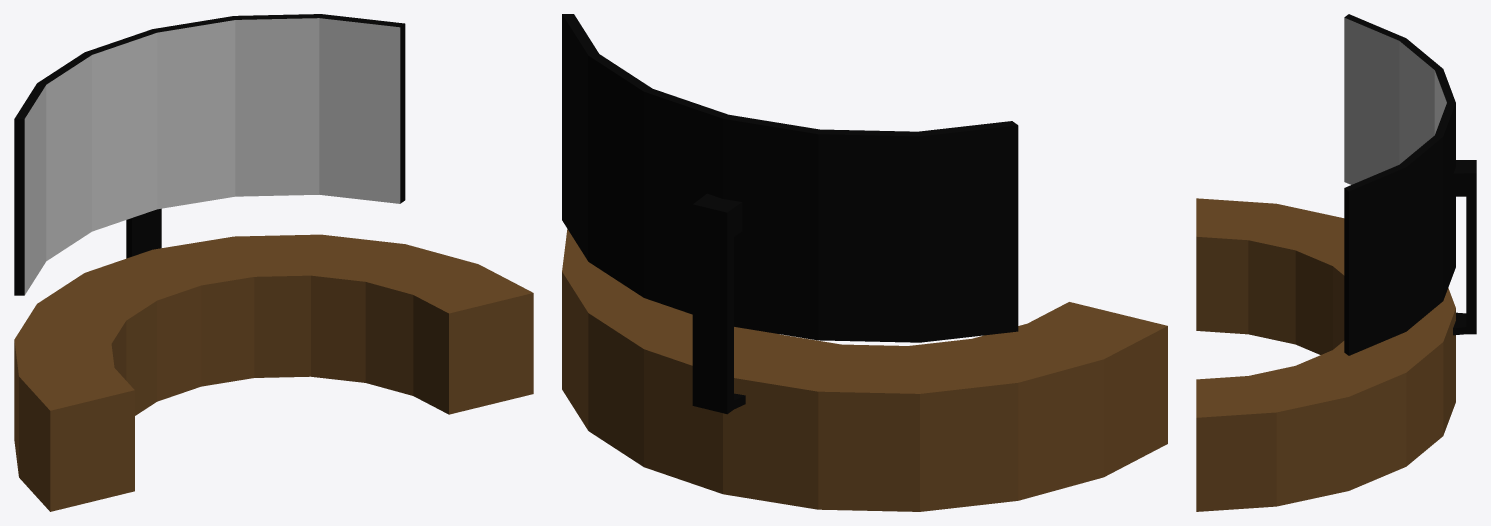
File: BigDesk.fbx
3 renders of one model, left to right at view 1: azimuth 30°, elevation 25°; view 2: azimuth 150°, elevation 25°; view 3: azimuth 270°, elevation 25°, orthographic. The views are drawn at different scales.
Visible parts, largest first — view 1: pCylinder5; view 2: pCylinder5; view 3: pCylinder5.
Boxes of the visible parts, x1,y1,x2,y2 form: pCylinder5: (14, 14, 533, 511); pCylinder5: (562, 14, 1167, 511); pCylinder5: (1196, 14, 1476, 511).
Bounding box in the file's own units: 20 × 12.72 × 10.8.
